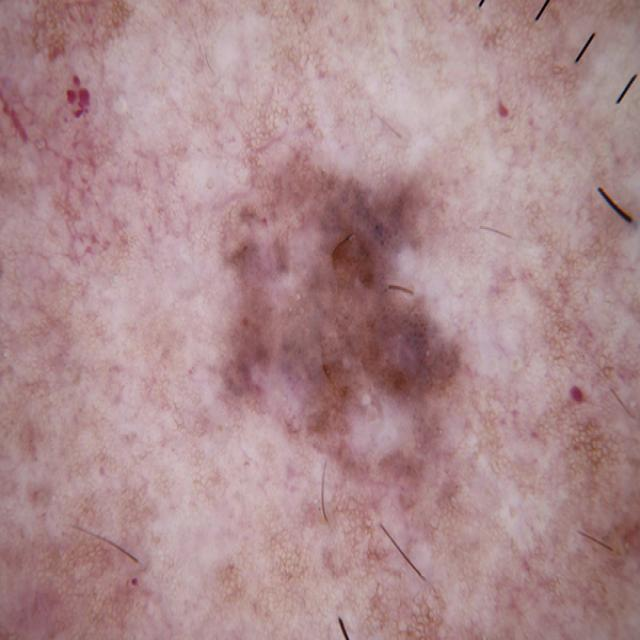Skin-Cancer Pigmented benign keratosis: (9, 12, 640, 640)
